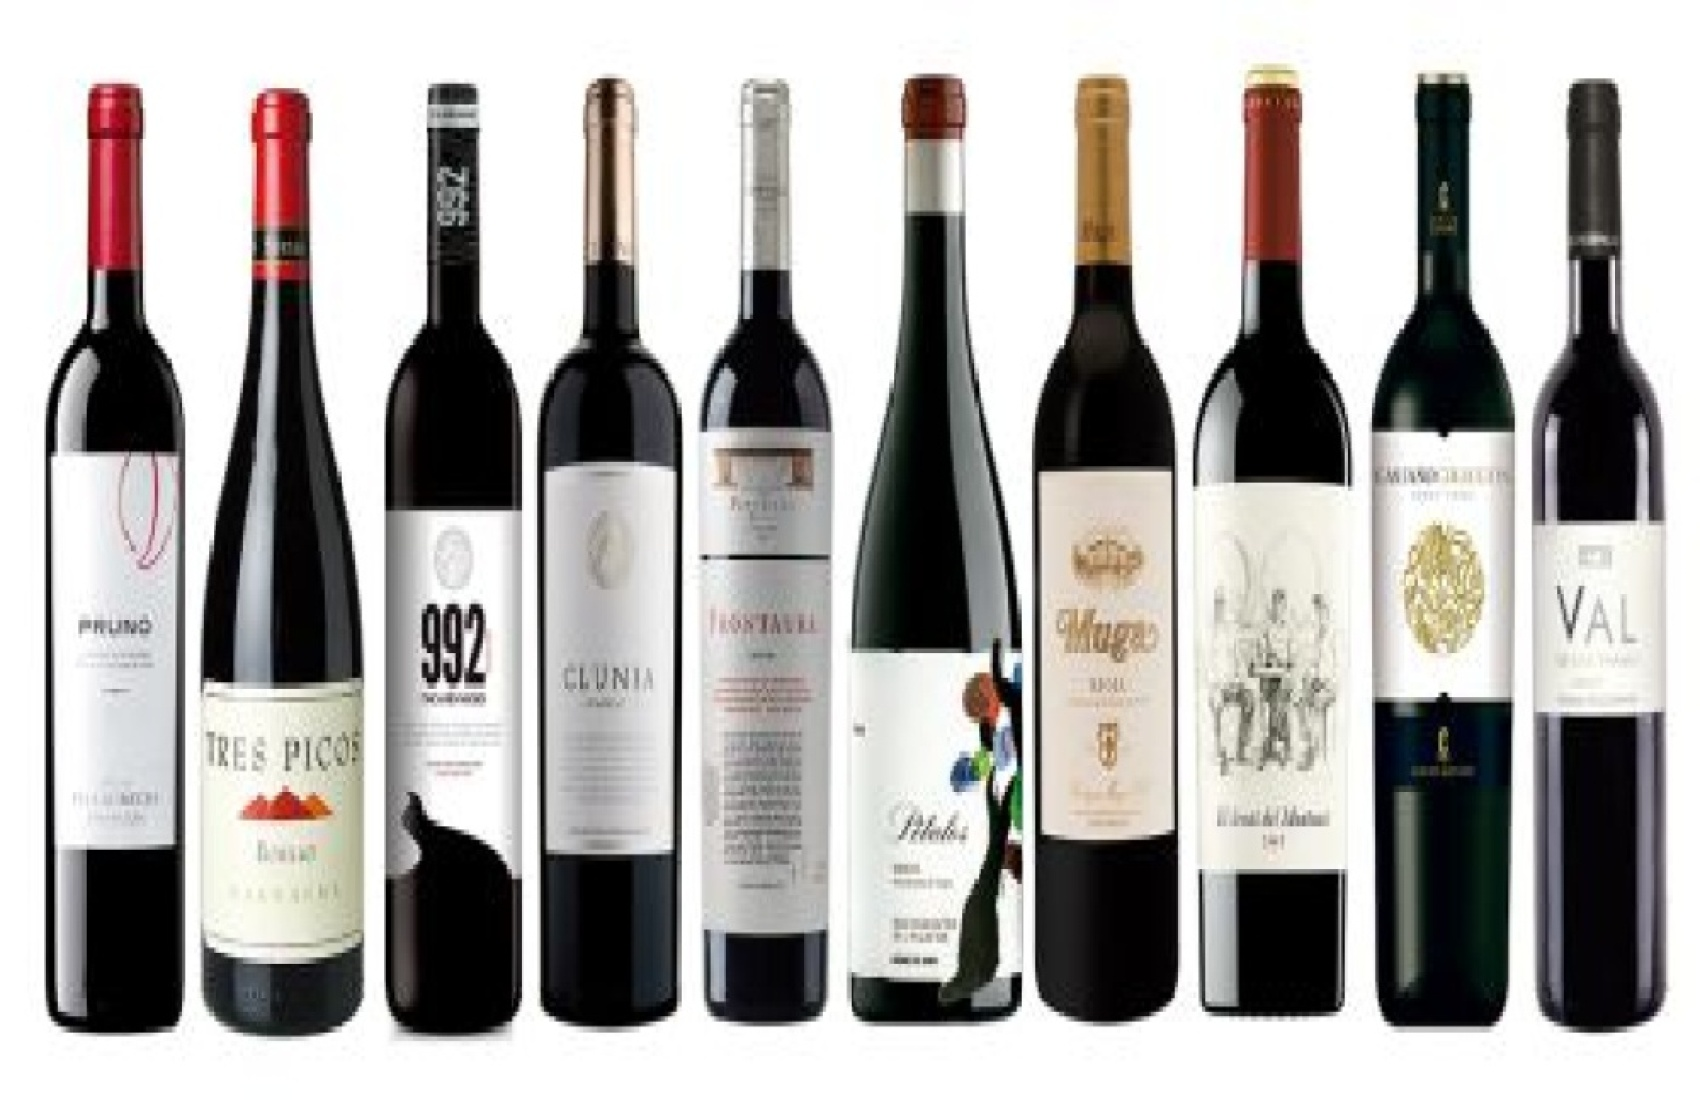wine: (833, 55, 1027, 1029), (1191, 71, 1364, 1029), (198, 68, 362, 1033), (533, 45, 680, 1016), (691, 36, 839, 1007), (1028, 32, 1175, 1003), (1364, 43, 1510, 1015), (1520, 58, 1667, 1029), (392, 58, 538, 1029), (45, 81, 183, 1034)
